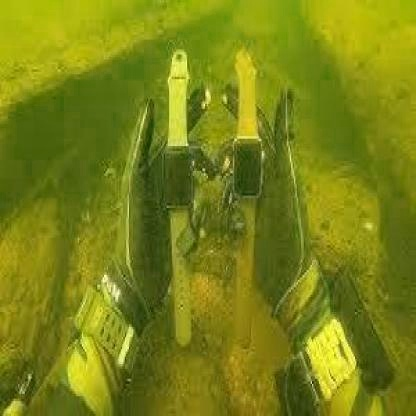electronics: (166, 50, 197, 344), (233, 50, 259, 354)
